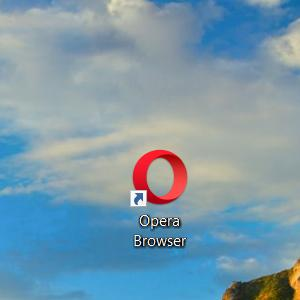opera: (130, 150, 188, 207)
